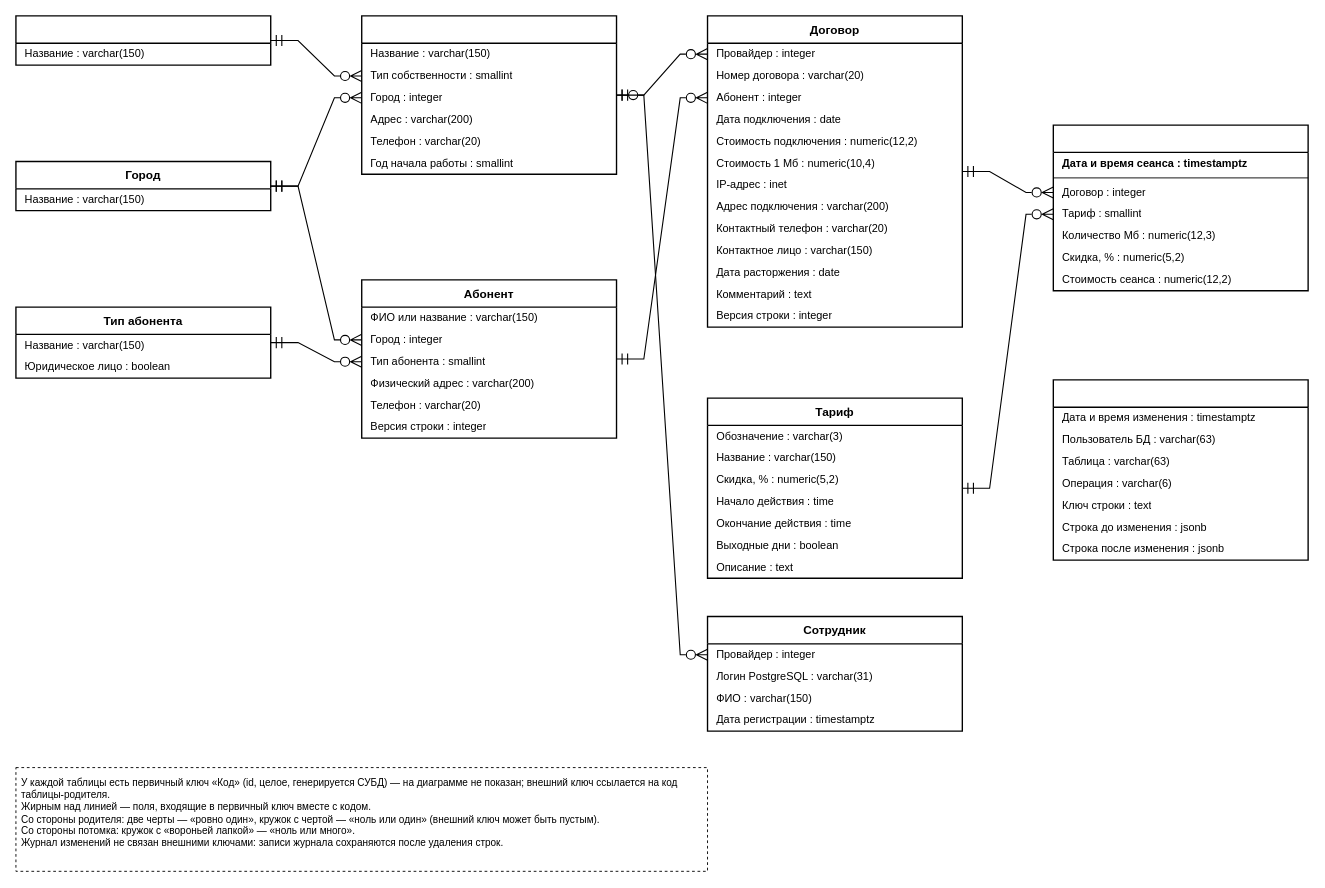
Some shapes in this 1325 by 888 pixel diagram are drawn without their labels. Each missing label, with the box of its shape:
Журнал изменений: (1052, 379, 1308, 560)
Провайдер: (361, 15, 617, 175)
Сеанс связи: (1052, 124, 1308, 291)
Тип собственности: (15, 15, 271, 65)
